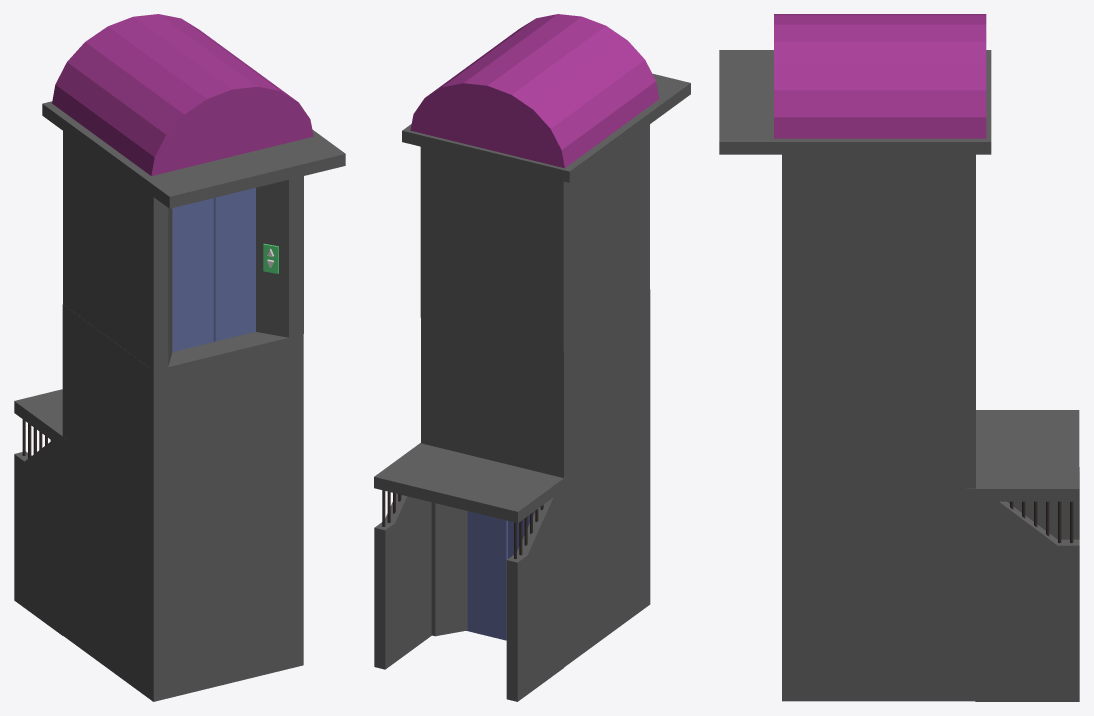
File: _rebe-ta.fbx
3 views of the same model, side by side, from view 1: azimuth 30°, elevation 25°; view 2: azimuth 150°, elevation 25°; view 3: azimuth 270°, elevation 25° (orthographic). The views are drawn at different scales.
Visible parts, largest first — view 1: polySurface10198; view 2: polySurface10198; view 3: polySurface10198.
Boxes of the visible parts, box(x1,y1,x2,y2) form: polySurface10198: box(14, 14, 345, 701); polySurface10198: box(374, 14, 690, 701); polySurface10198: box(719, 14, 1079, 701).
Size of the model in its own units: 2.14 by 6.94 by 3.55.
